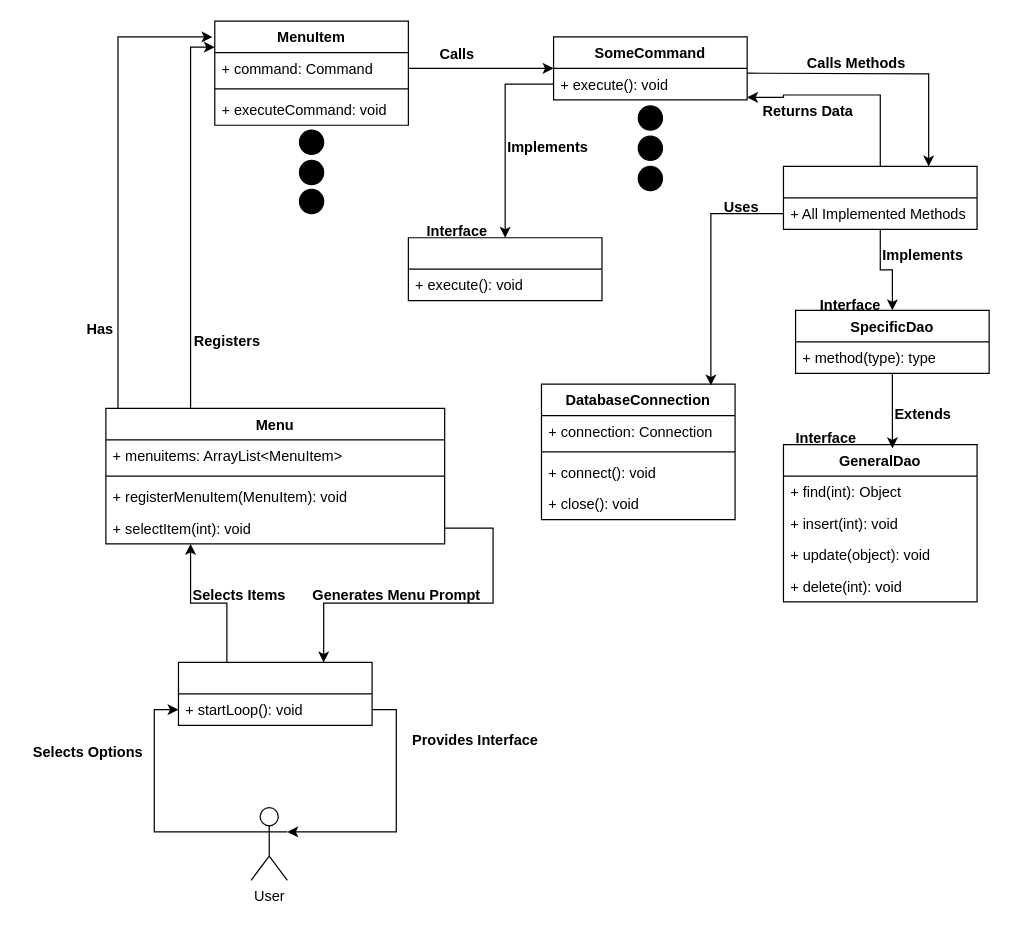
Some shapes in this 1010 by 927 pixel diagram are drawn without their labels. The box of each missing label's shape, as (x1, y1, x2, y2) in pixels:
Command: (407, 237, 602, 301)
MainLoop: (177, 661, 372, 725)
SomeDaoImplementation: (782, 165, 977, 229)
